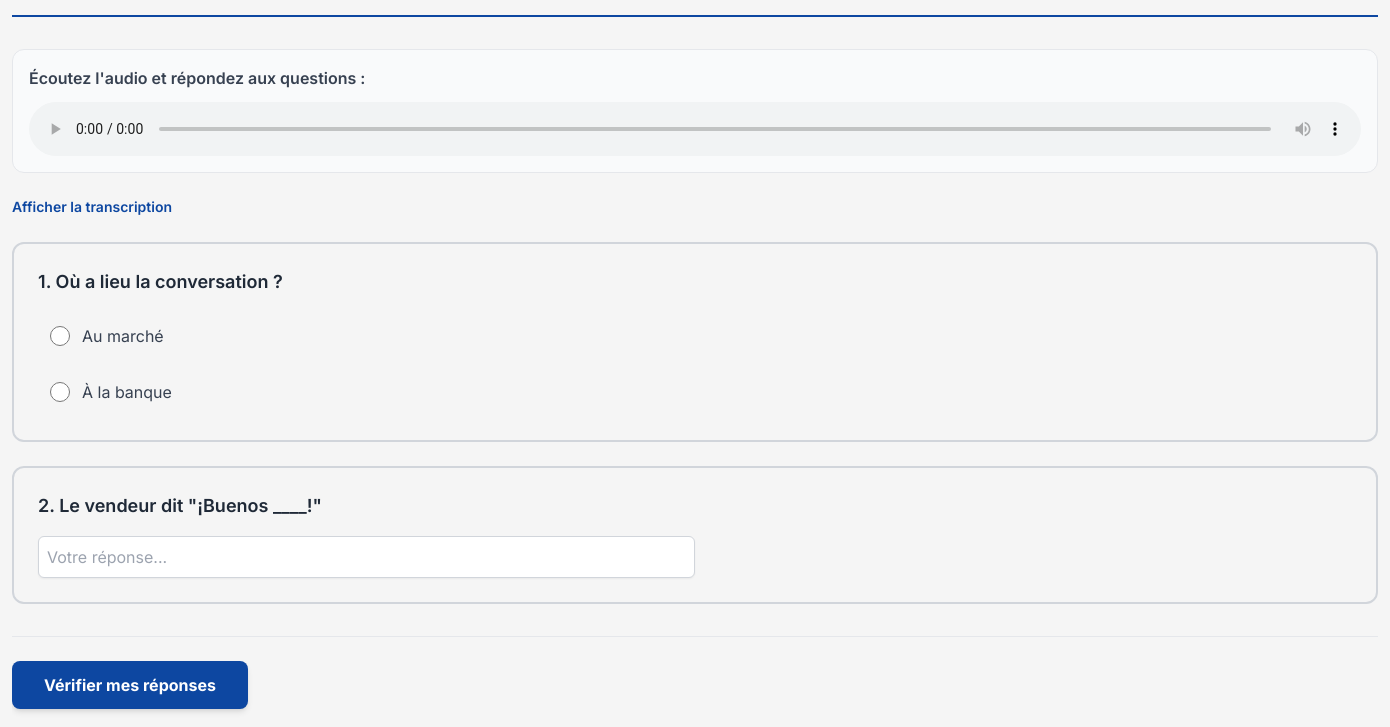
Test: ListeningExercise › permet à l'utilisateur de répondre, de soumettre et de voir le score
Click the radio button labelled "Au marché" at {"x": 60, "y": 336}, box [50,326,70,346]
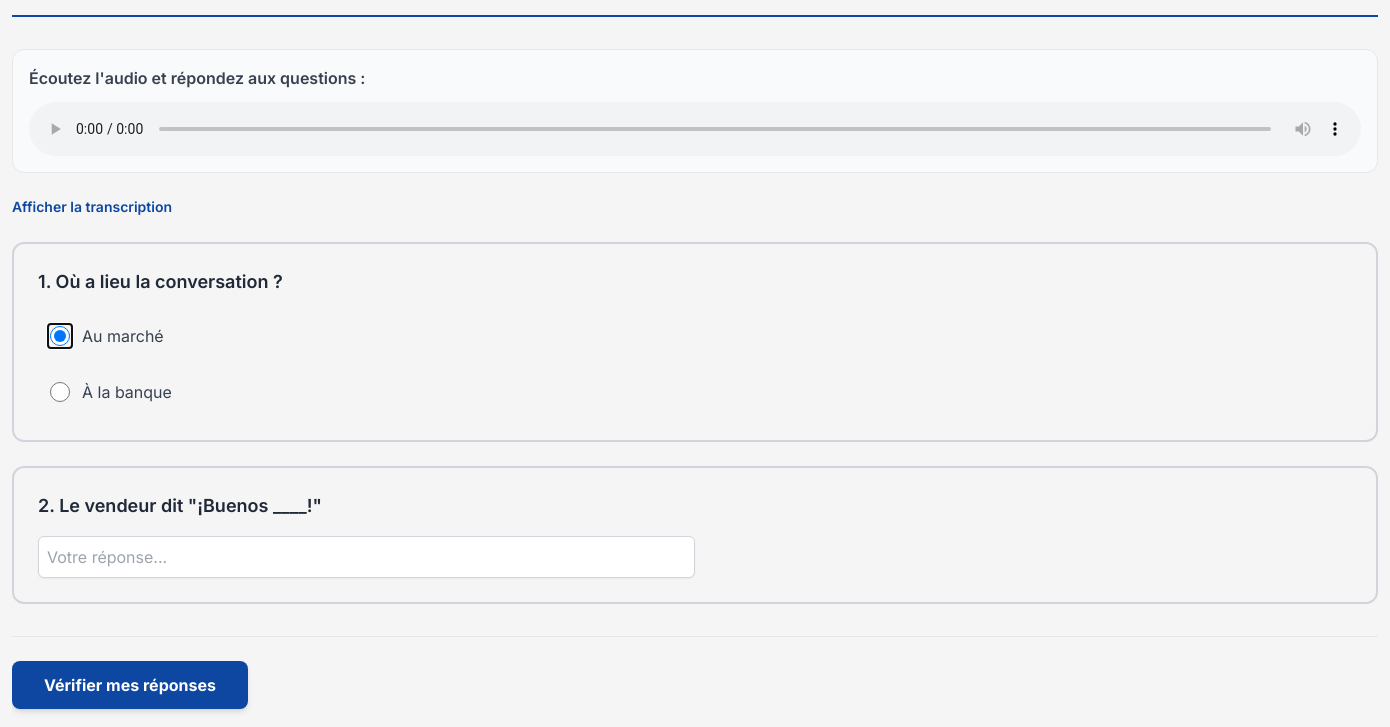
Type "días" into the field with placeholder "Votre réponse..." at {"x": 366, "y": 557}, box [38,536,695,578]
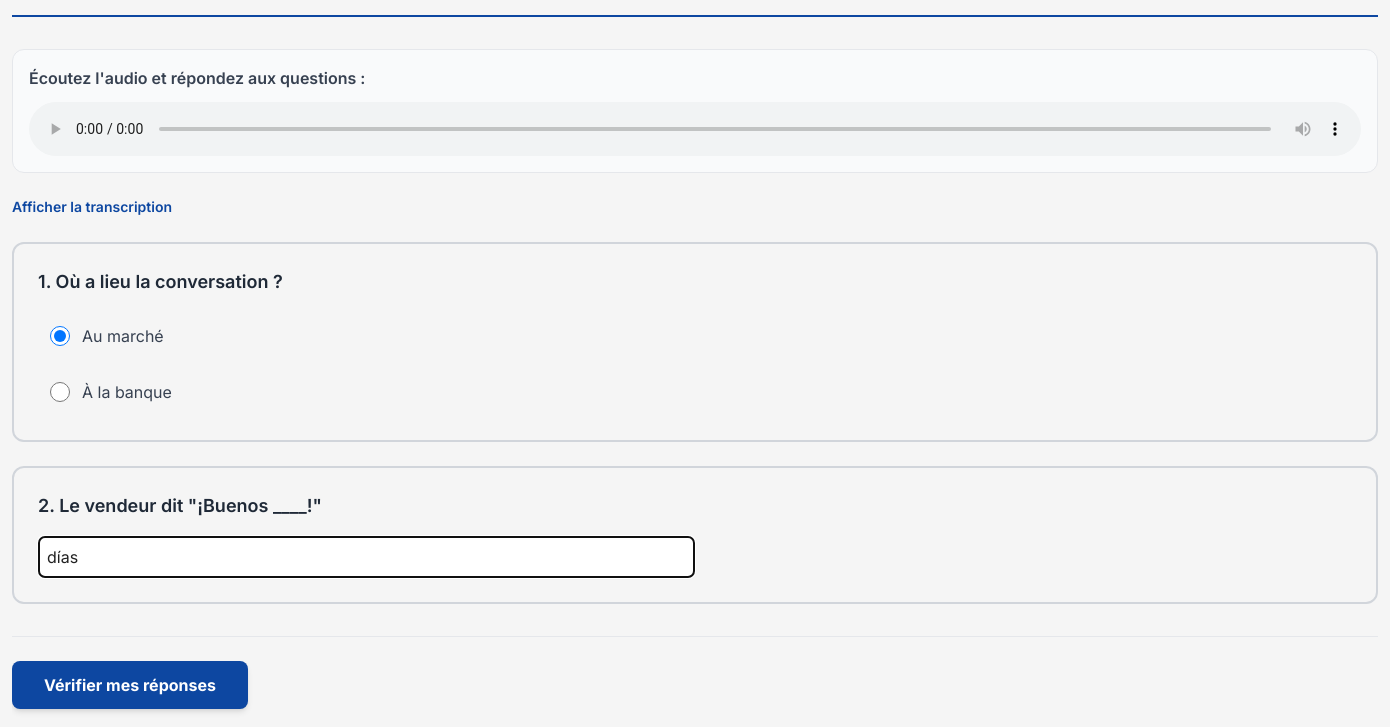
Click the button "Vérifier mes réponses" at {"x": 130, "y": 685}, box [12,661,248,709]
(page scrolled)
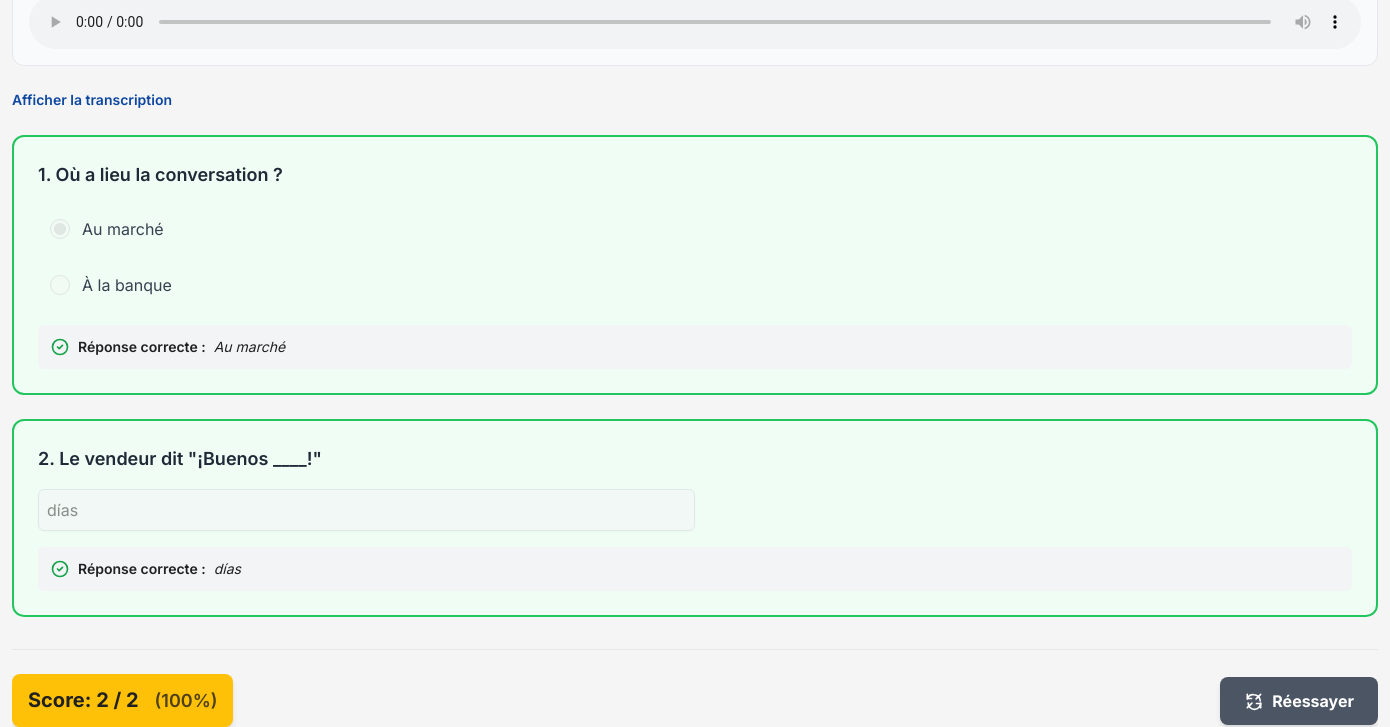
Expected: the text "Score: 2 / 2" is shown, [28,686,139,714]
Expected: the text "(100%)" is shown, [155,687,218,715]
